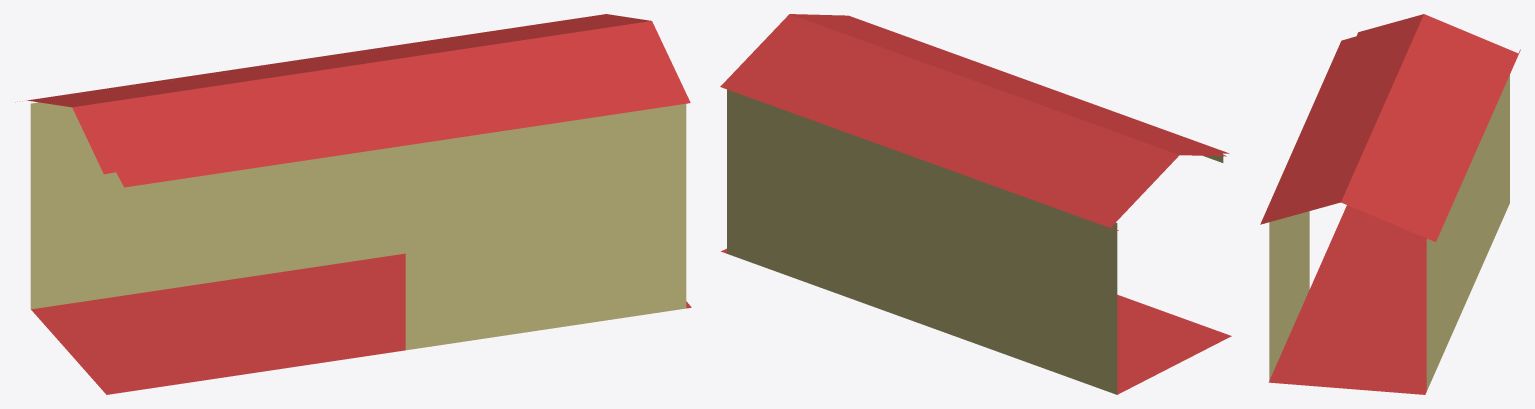
The picture shows the model from 3 angles, left to right: view 1: azimuth 30°, elevation 25°; view 2: azimuth 150°, elevation 25°; view 3: azimuth 270°, elevation 25°; orthographic projection. The views are drawn at different scales.
Parts seen in each view (by area): view 1: group_5, group_3, group_6, group_4; view 2: group_5, group_3, group_6, group_4; view 3: group_3, group_6, group_5, group_4.
Part boxes in pixels (x1,y1,x2,y2): group_5: [30, 102, 686, 350]; group_3: [15, 14, 690, 187]; group_6: [31, 253, 691, 394]; group_4: [27, 14, 608, 100]; group_5: [727, 89, 1223, 394]; group_3: [720, 14, 1229, 230]; group_6: [721, 248, 1231, 394]; group_4: [722, 81, 1116, 227]; group_3: [1260, 14, 1520, 241]; group_6: [1268, 205, 1426, 394]; group_5: [1269, 75, 1509, 391]; group_4: [1429, 50, 1518, 241].
Bounding box in the file's own units: 25.45 × 13.85 × 10.75.
